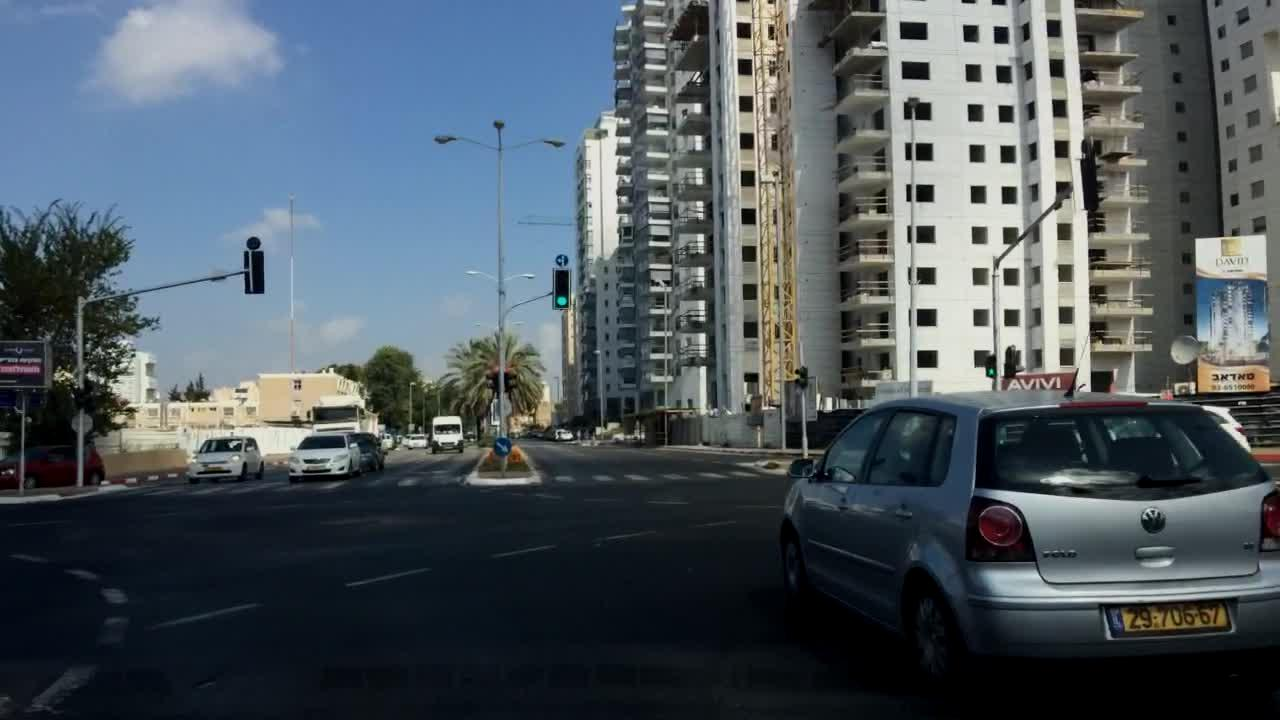Volkswagen: (1131, 500, 1176, 544)
